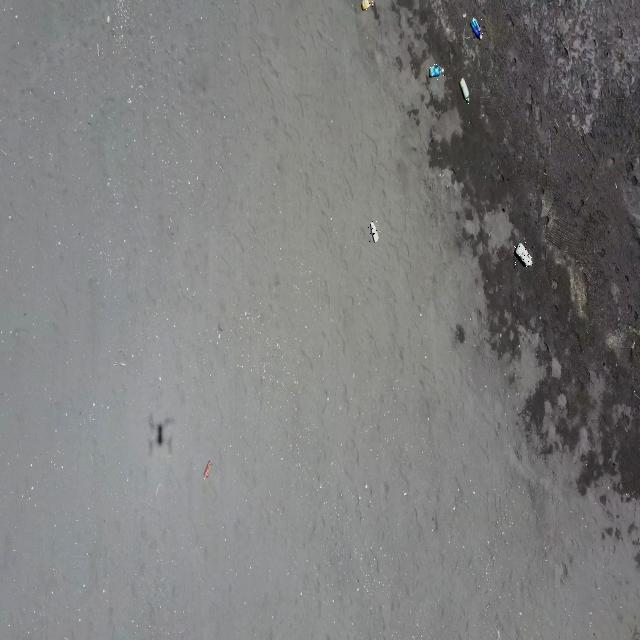plastic-bottle: (514, 242, 534, 268), (470, 16, 483, 39), (460, 78, 471, 104), (430, 63, 446, 80), (368, 218, 378, 242), (362, 0, 374, 11)
